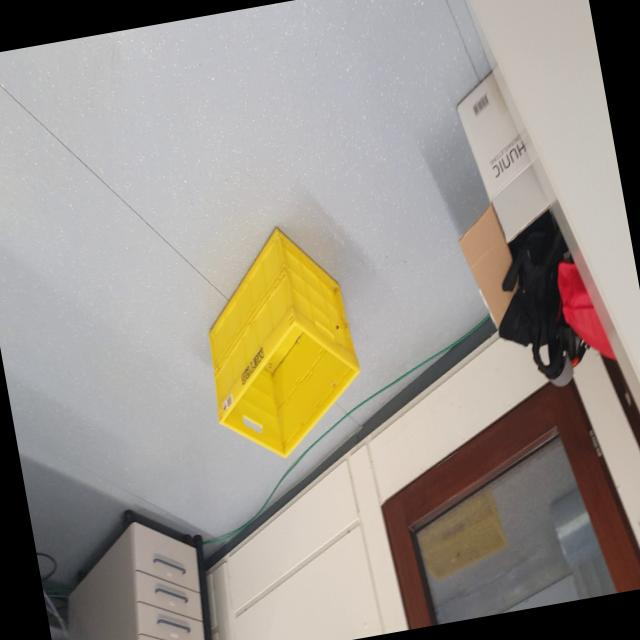box: (180, 188, 387, 478)
